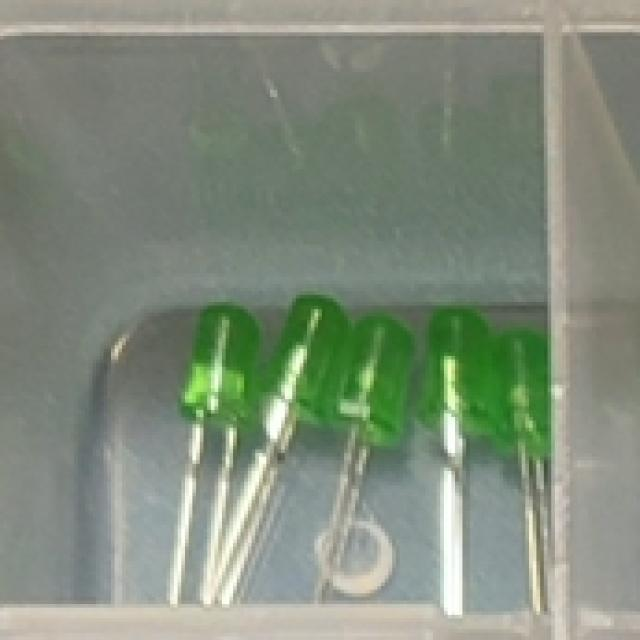GREEN_LED: (230, 295, 352, 640), (164, 294, 262, 640), (321, 311, 415, 640), (421, 308, 487, 640), (492, 328, 554, 640)
